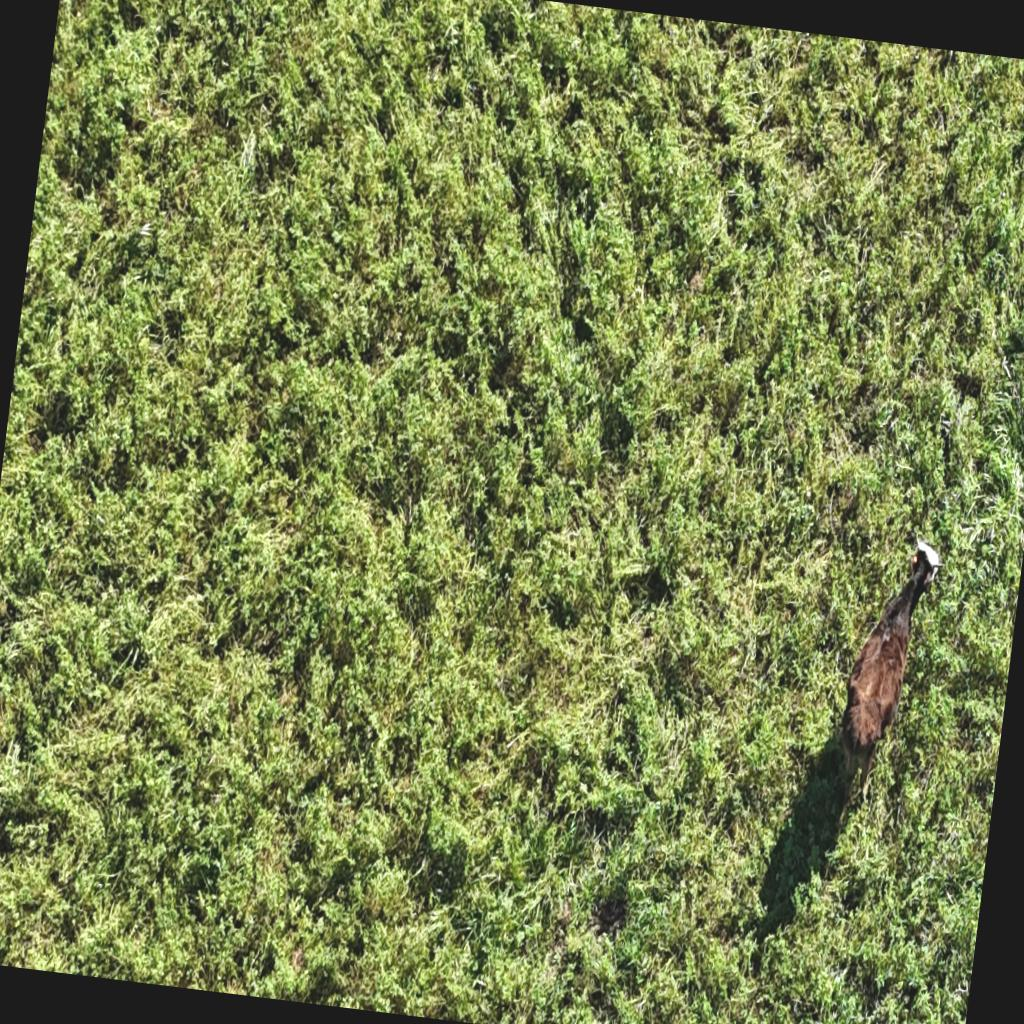cow: (822, 499, 954, 794)
